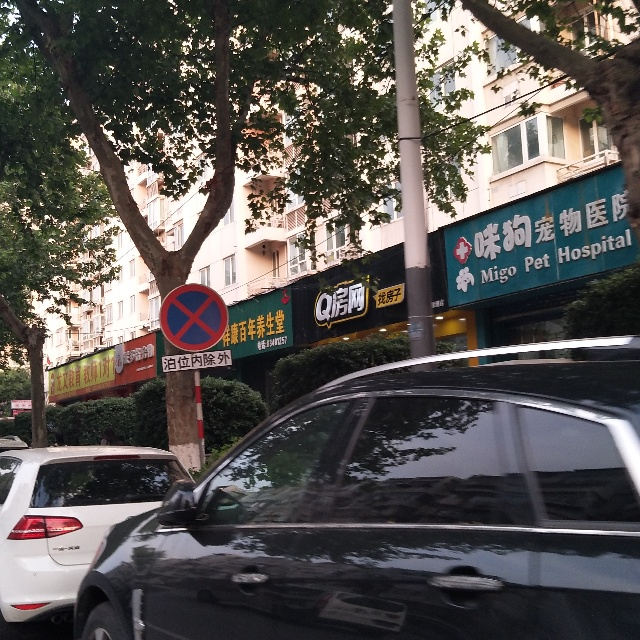stop: (160, 284, 230, 352)
